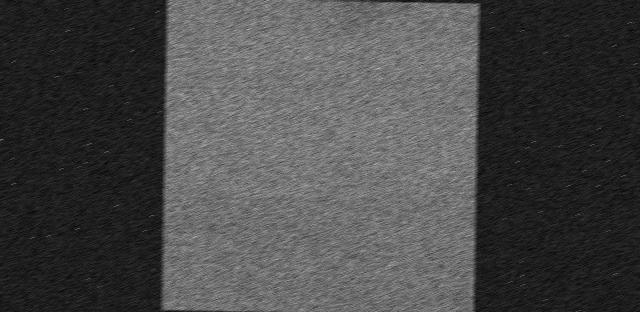water_spot: (328, 0, 436, 33)
